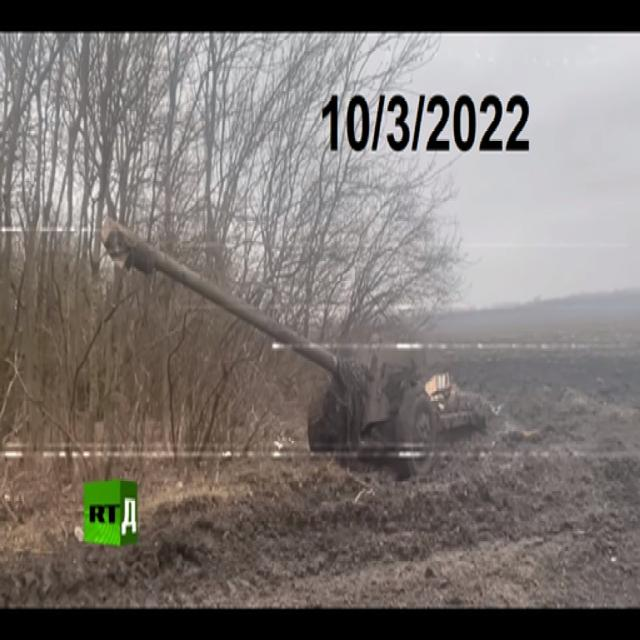ART: (101, 213, 488, 482)
